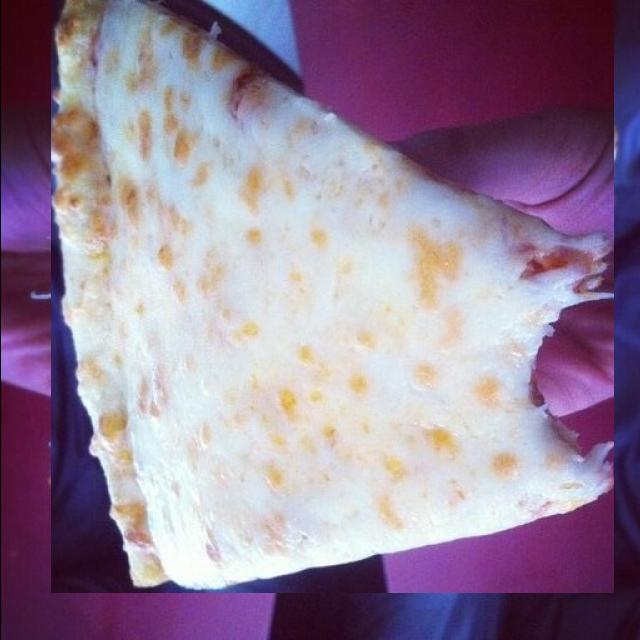pizza: (48, 0, 612, 593)
